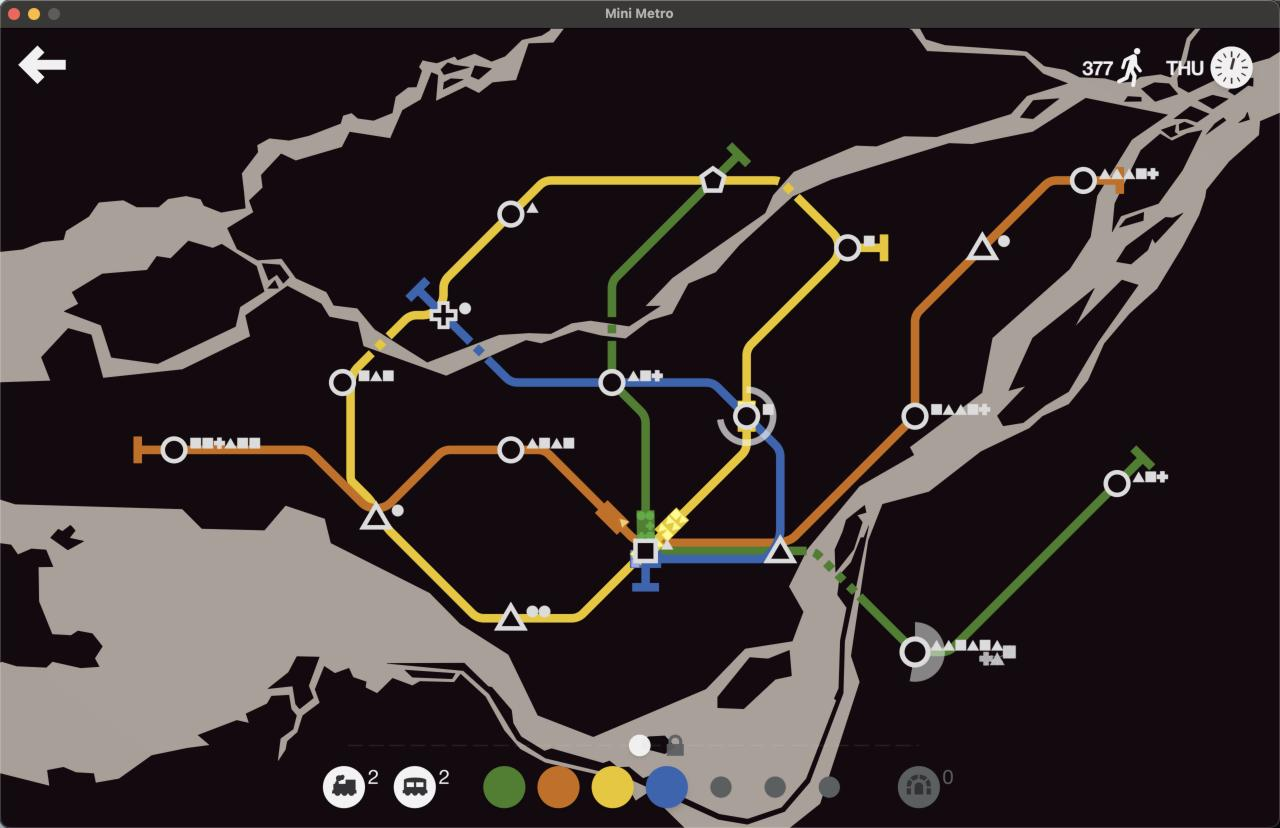CIRCLE: (899, 634, 934, 670), (732, 400, 763, 434), (900, 401, 930, 431), (597, 368, 628, 397), (1102, 469, 1132, 498), (834, 233, 863, 262), (496, 435, 525, 464), (1069, 166, 1098, 195), (328, 367, 356, 397), (497, 199, 525, 228), (160, 435, 188, 464)
CROSS: (429, 301, 460, 329)
PENTAGON: (698, 166, 727, 195)
SQUARE: (630, 537, 660, 567)
TRIANGLE: (966, 230, 1002, 262), (763, 534, 797, 565), (359, 501, 393, 531), (494, 602, 528, 632)
